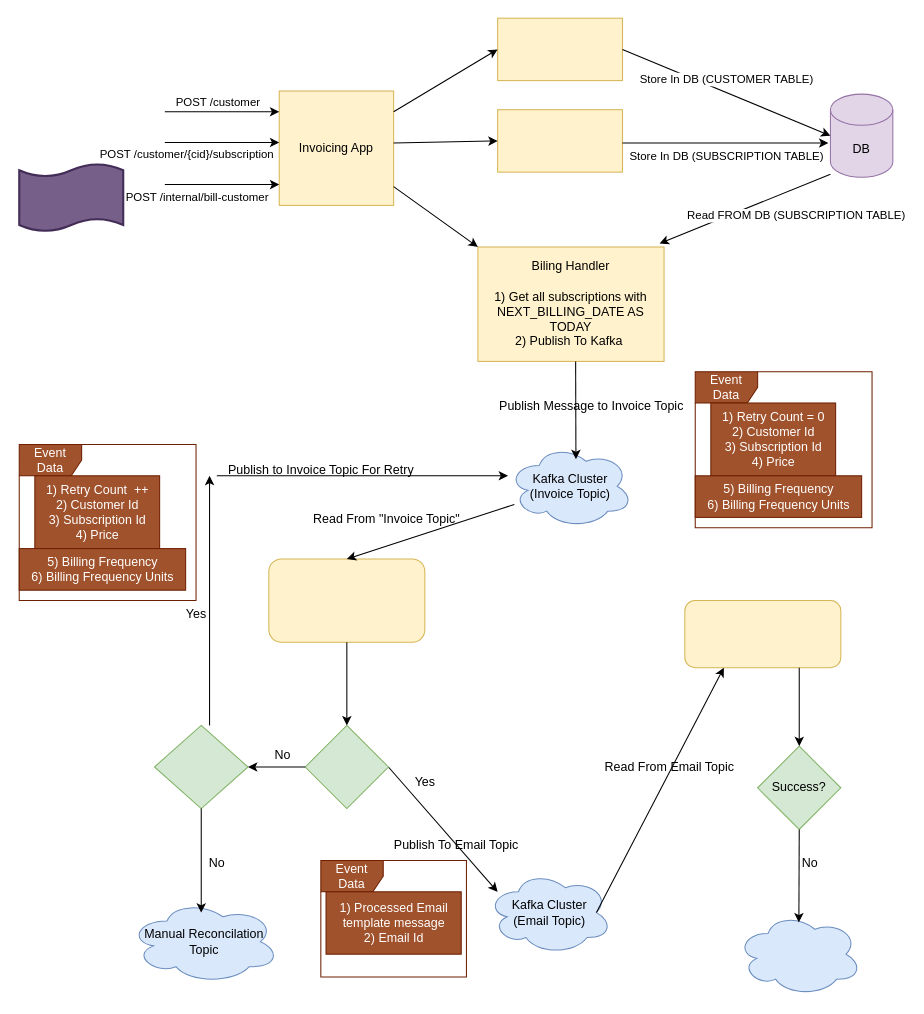
The diagram is 924 pixels wide and 1014 high, and some of its shapes have lost their labels. Here are the shapes that lost their labels. From the top down, the box of each, then its label:
(497, 17, 622, 81): Add Customer Handler
(497, 109, 622, 172): Add Subscription Handler
(18, 162, 124, 232): K8s Cron Job Trigger Midnight Everyday
(268, 558, 425, 642): 1) Prepare Invoice 2) Publish To Email Topic
(684, 600, 841, 668): 1) Send Email to customer
(153, 724, 248, 809): Retry Count < 3
(304, 724, 388, 809): Processing Success?
(736, 912, 862, 996): Kafka Cluster (Manual-Email)
